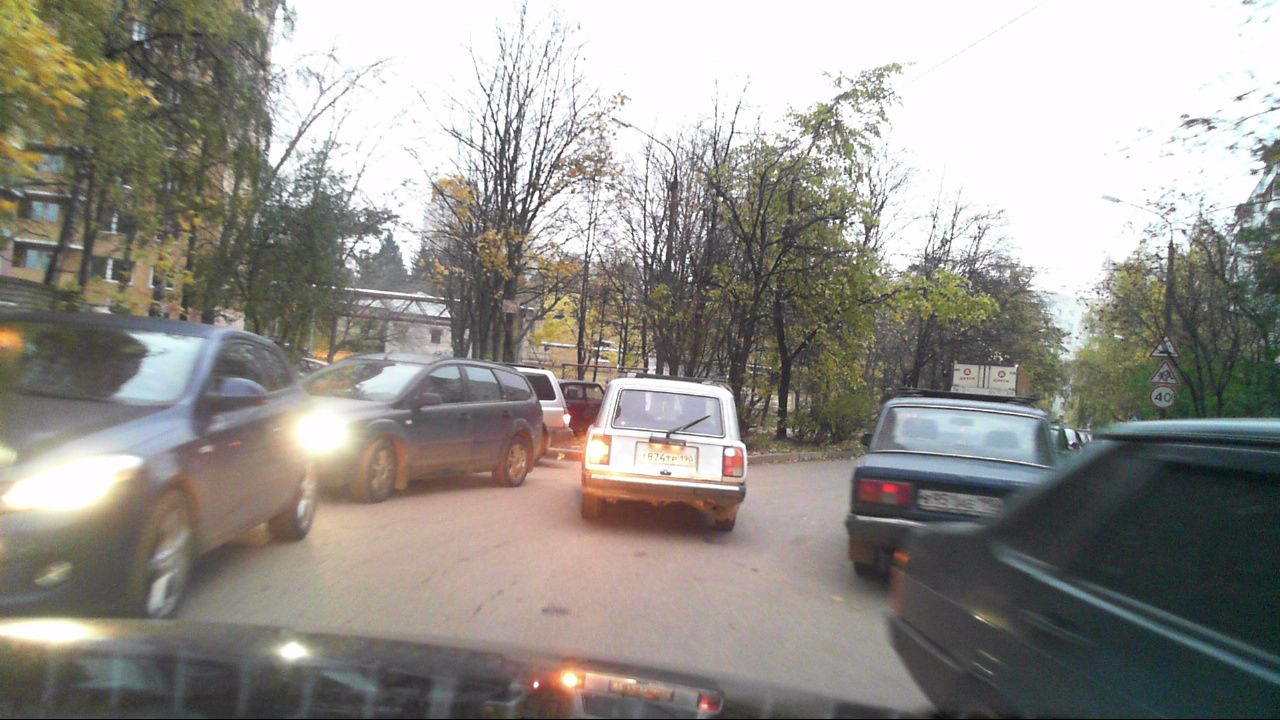speed_warning_40: (1152, 386, 1176, 407)
